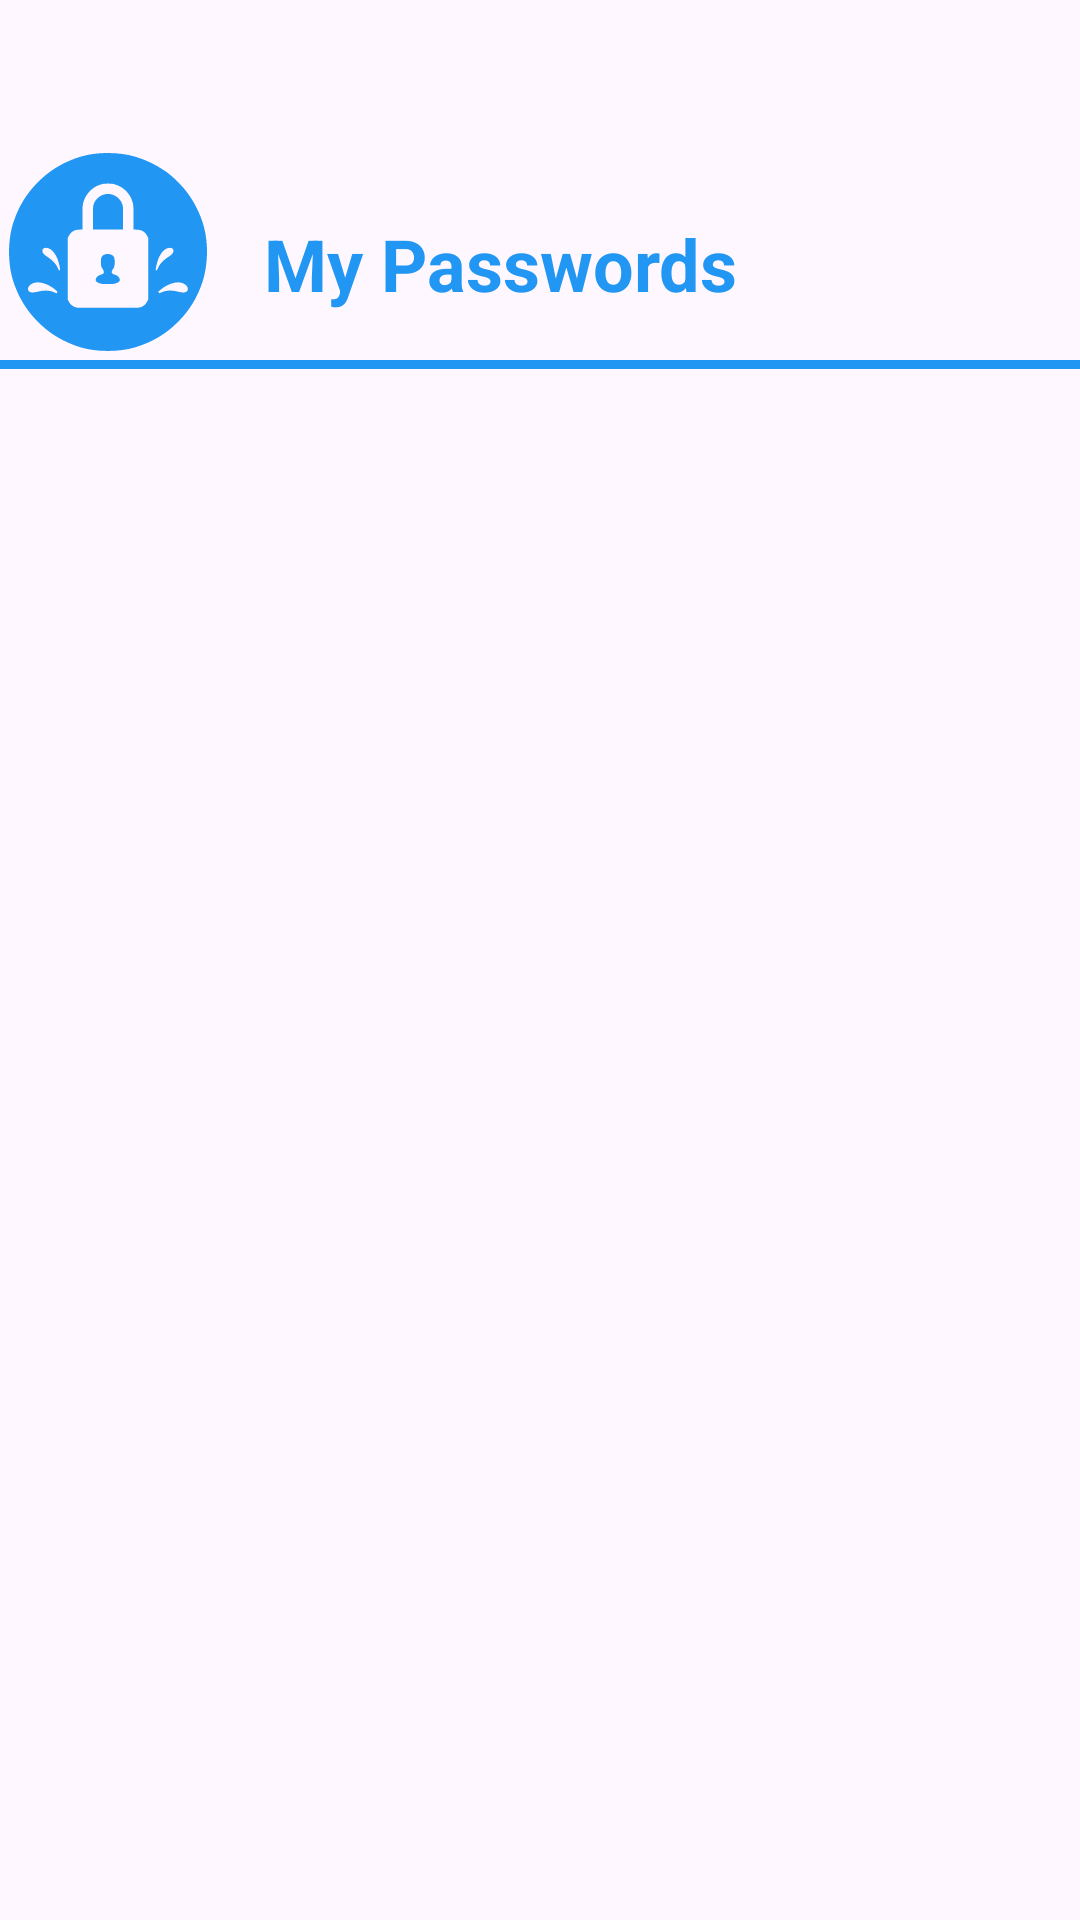

Icon bounding boxes for this 1080 × 1920 phone screenshot, format (x1, y1, x2, y2):
app: (9, 153, 207, 351)
